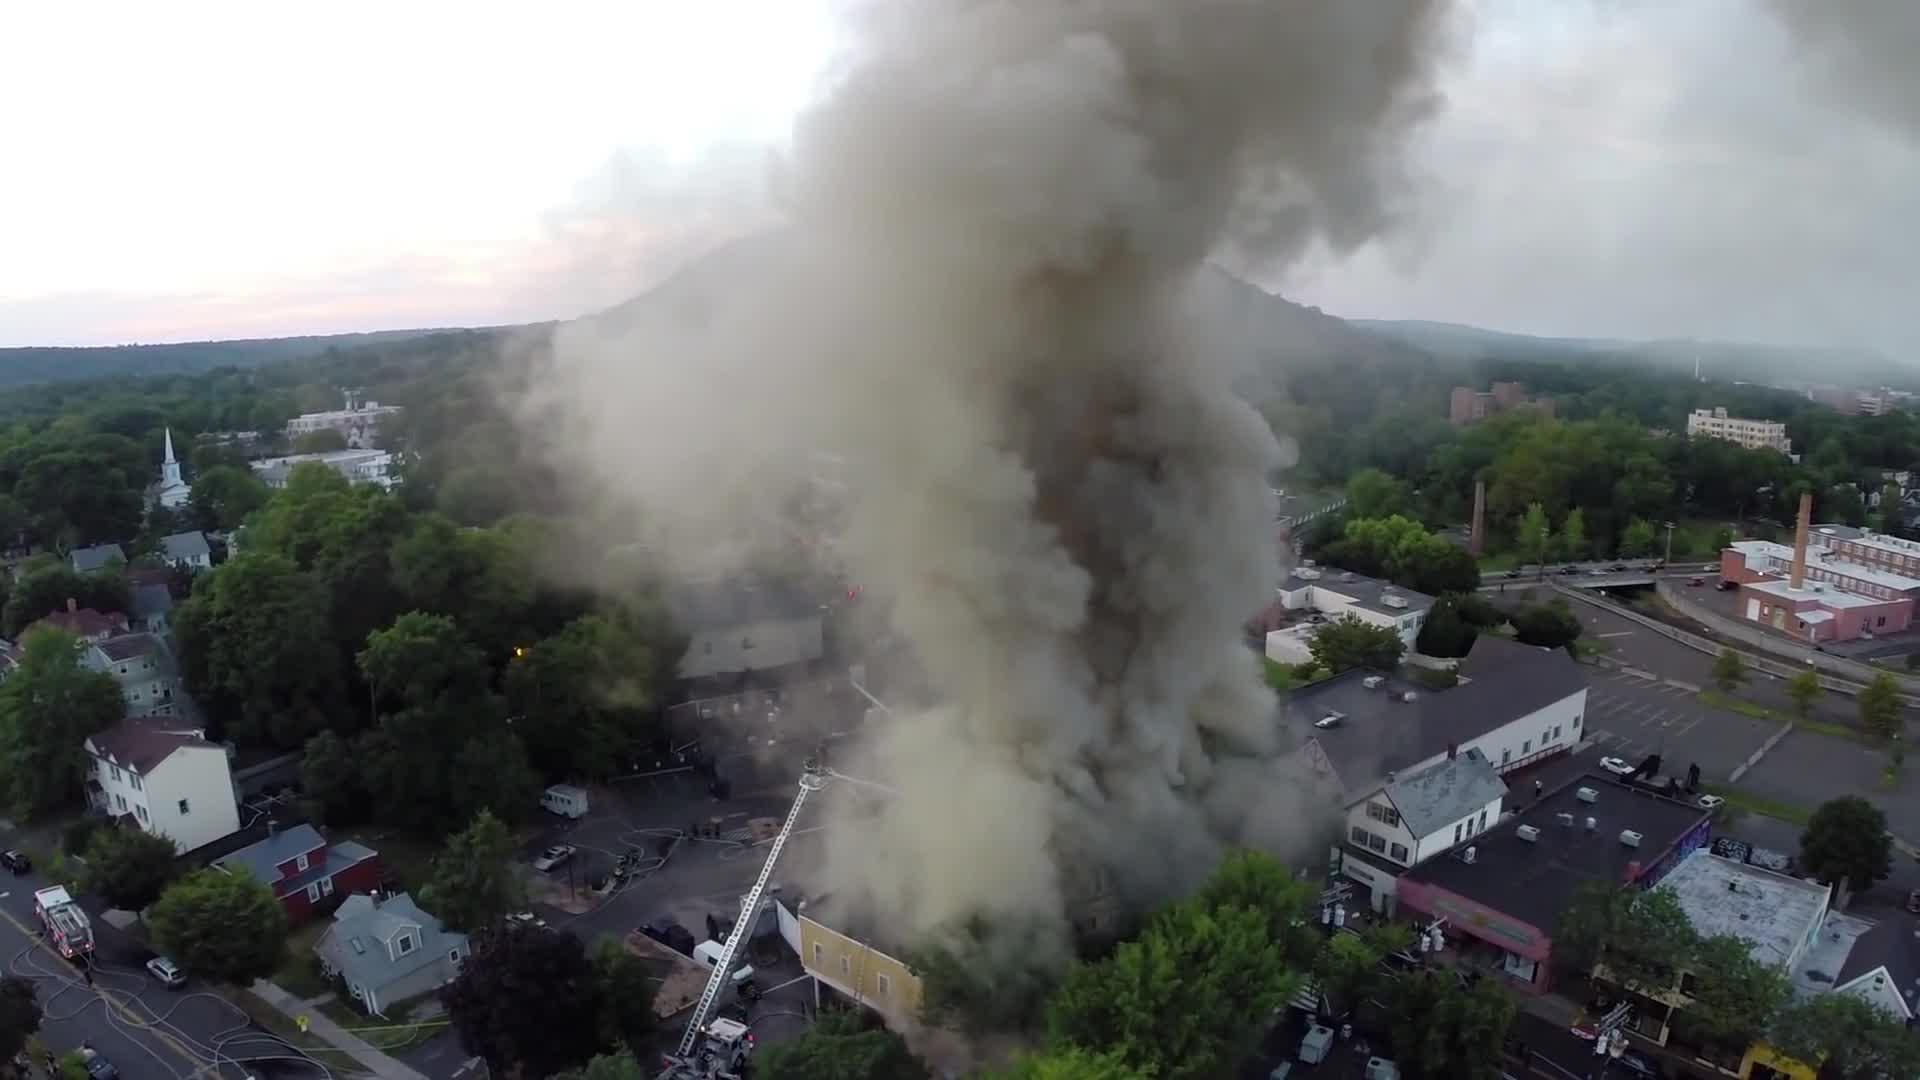smoke: (866, 178, 1238, 857)
